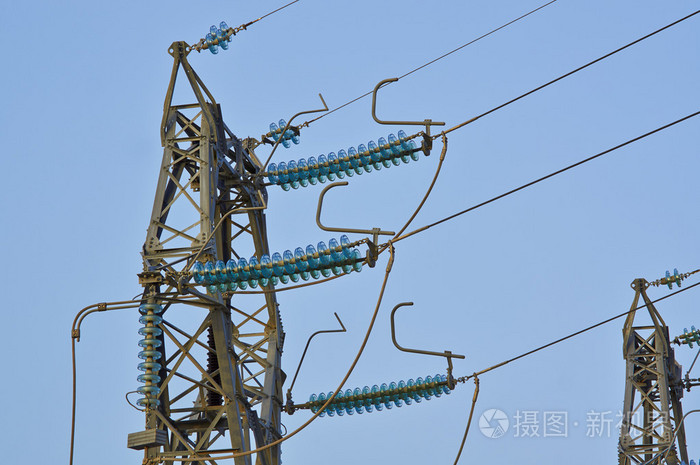insulator: (193, 236, 364, 292), (269, 131, 419, 192), (308, 374, 450, 418), (139, 302, 162, 409), (270, 119, 301, 150), (206, 21, 231, 54)
